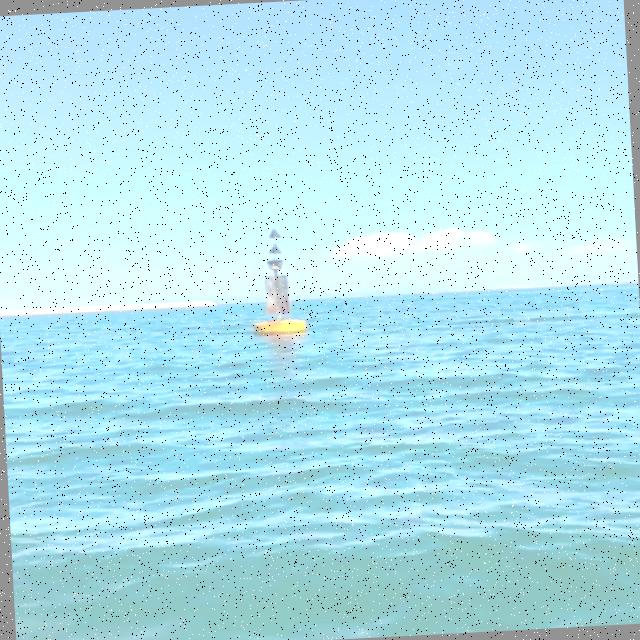marque: (245, 225, 311, 336)
